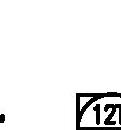instrumenttag: (74, 91, 121, 128)
